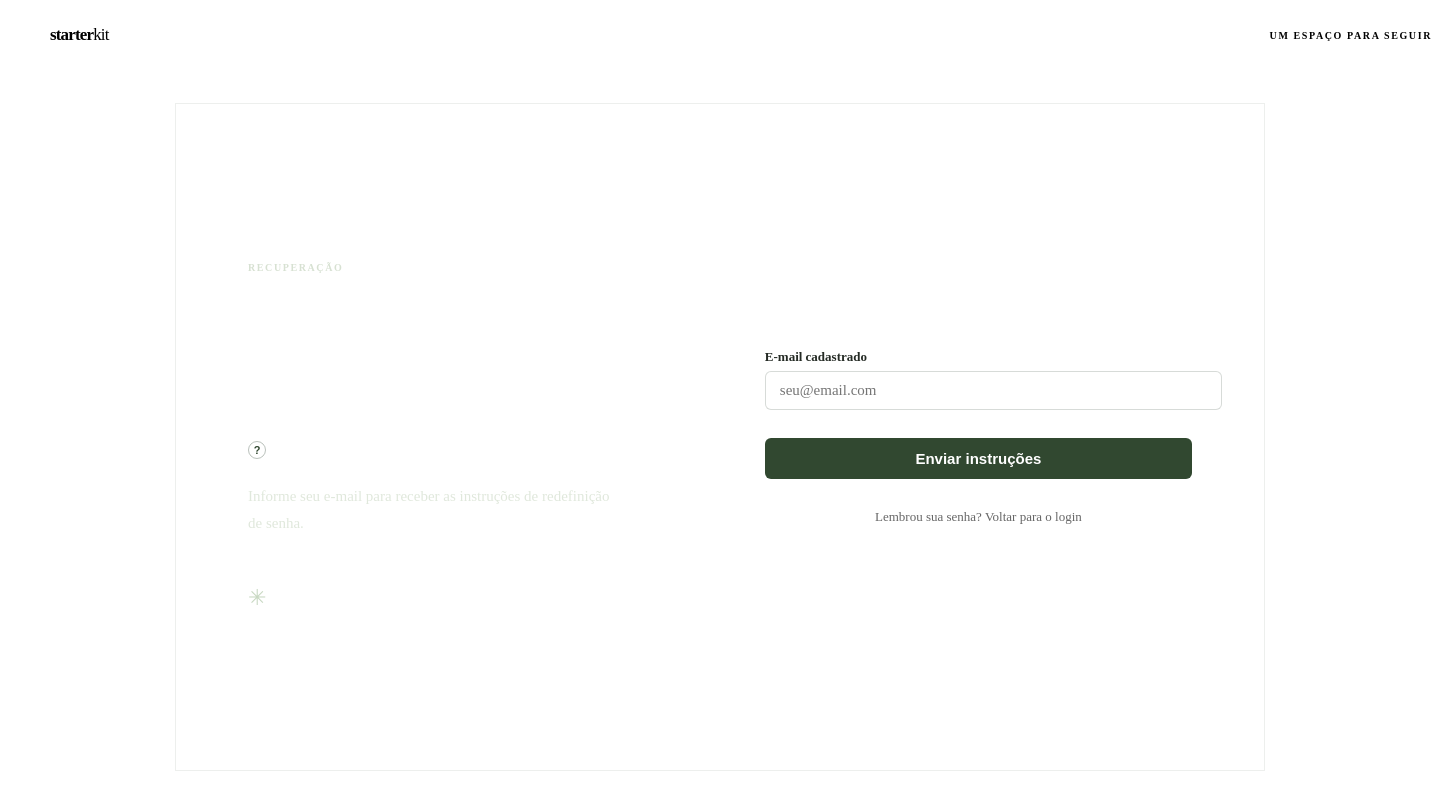
Test: ForgotPasswordPage.vue › handles 422 validation error
Type "not-an-email" into the field labelled "E-mail cadastrado" at {"x": 993, "y": 390}, box [765,370,1222,410]
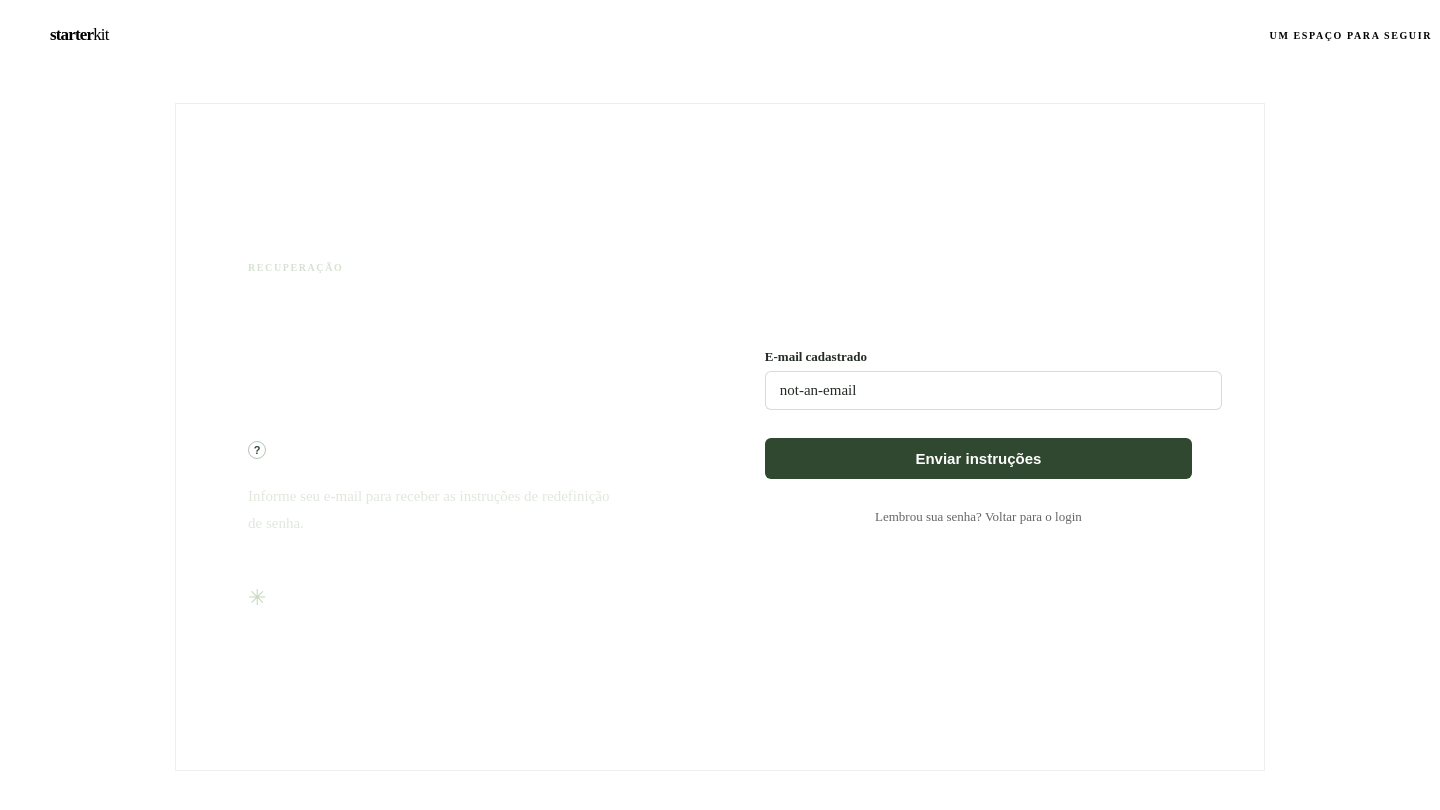
Submit the form, box [765,348,1192,524]
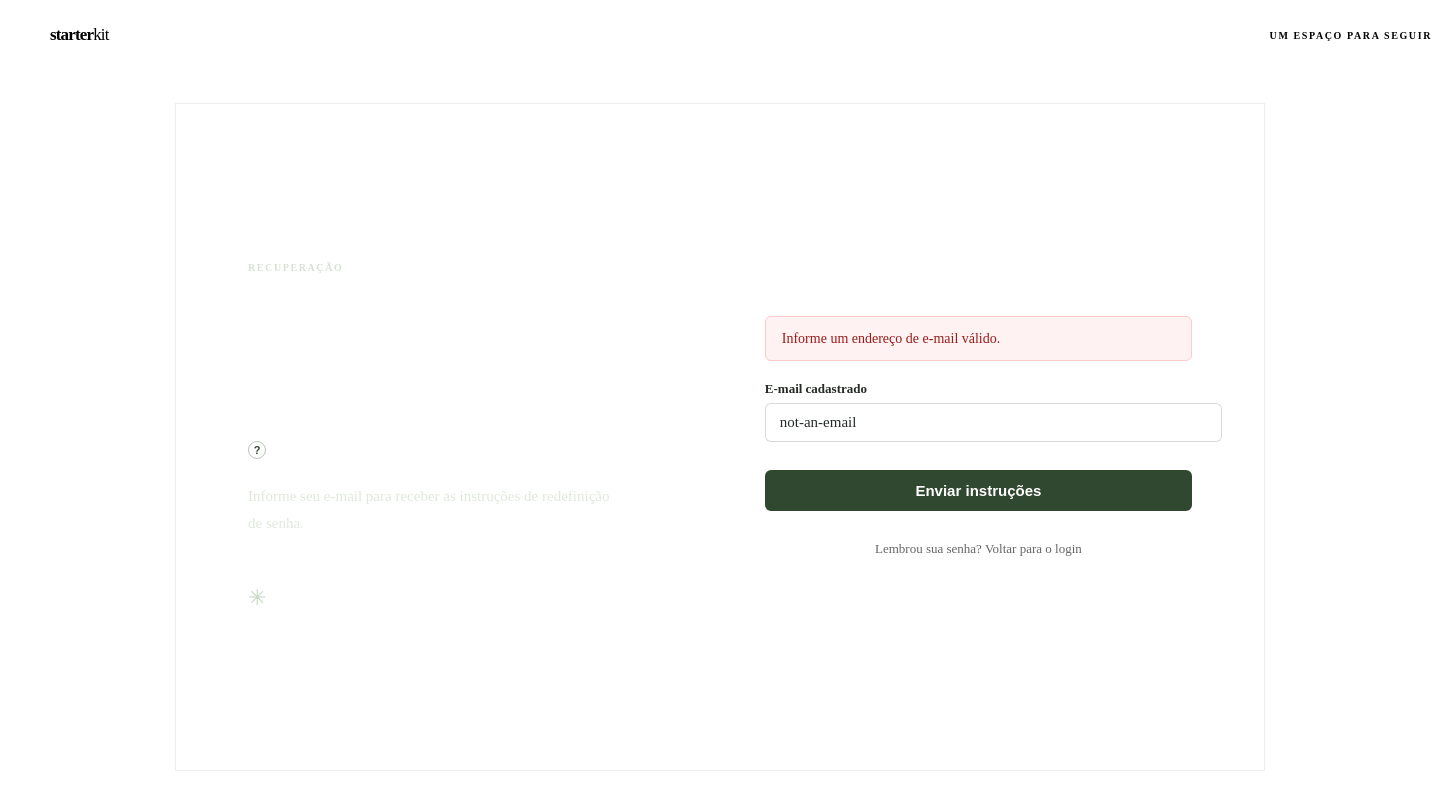
Now the message "Informe um endereço de e-mail válido." is shown, box [765,316,1192,361]
